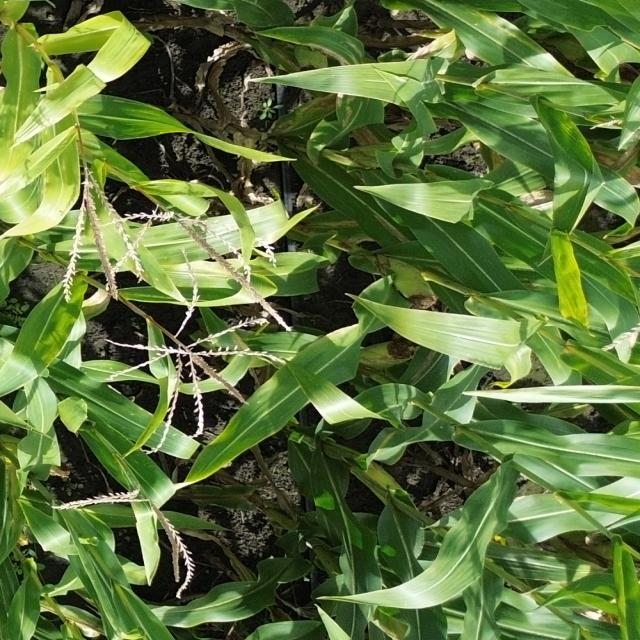northern-leaf-blight: (540, 230, 610, 350)
southern-leaf-blight: (459, 113, 582, 186), (91, 412, 199, 488), (213, 384, 305, 459)
